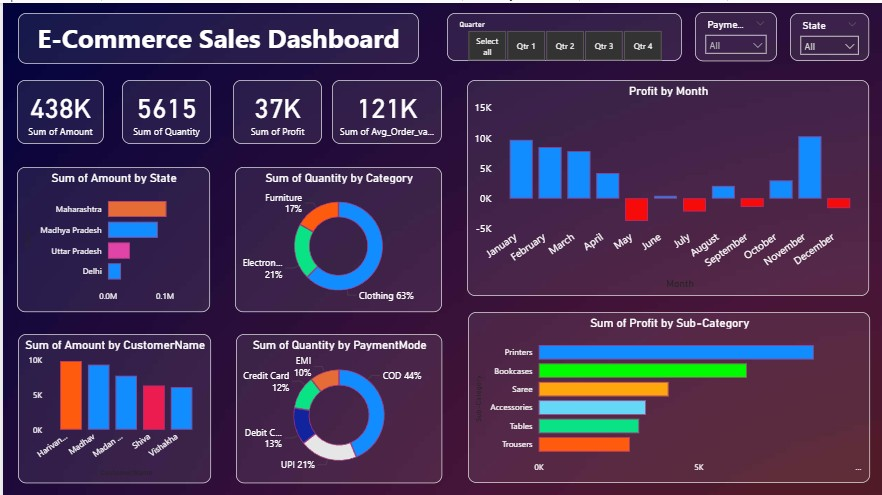

The dashboard page shown, as its layout file describes it:
{"tool":"powerbi","page":{"name":"Page 1","canvas":[1280,720],"ordinal":0},"visuals":[{"type":"textbox","box":[21.6,14.4,577.4,73.4],"z":0},{"type":"columnChart","title":"Profit by Month","fields":{"Y":["Details.Profit"],"Category":["Orders.Order Date.Variation.Date Hierarchy.Month"]},"box":[668.2,110.9,578.9,311],"z":1000},{"type":"barChart","fields":{"Category":["Details.Sub-Category"],"Y":["Details.Profit"]},"box":[669.6,445,578.9,246.2],"z":2000},{"type":"donutChart","fields":{"Category":["Details.Category"],"Y":["Details.Quantity"]},"box":[334.1,236.2,298.1,208.8],"z":3000},{"type":"donutChart","fields":{"Y":["Details.Quantity"],"Category":["Details.PaymentMode"]},"box":[335.5,476.6,296.6,214.6],"z":4000},{"type":"card","fields":{"Values":["Details.Amount"]},"box":[20.2,110.9,125.3,92.2],"z":5000},{"type":"card","fields":{"Values":["Details.Quantity"]},"box":[171.4,110.9,128.2,92.2],"z":6000},{"type":"card","fields":{"Values":["Details.Profit"]},"box":[331.2,110.9,128.2,92.2],"z":7000},{"type":"card","fields":{"Values":["Details.Avg_Order_value"]},"box":[473.8,110.9,158.4,92.2],"z":8000},{"type":"barChart","fields":{"Category":["Orders.State"],"Y":["Details.Amount"]},"box":[20.2,236.2,277.9,208.8],"z":9000},{"type":"columnChart","fields":{"Y":["Details.Amount"],"Category":["Orders.CustomerName"]},"box":[21.6,476.6,277.9,214.6],"z":10000},{"type":"slicer","fields":{"Values":["Orders.State"]},"box":[1133.3,14.4,113.8,69.1],"z":11000},{"type":"slicer","fields":{"Values":["Details.PaymentMode"]},"box":[996.5,13,118.1,70.6],"z":12000},{"type":"slicer","fields":{"Values":["Orders.Order Date.Variation.Date Hierarchy.Quarter"]},"box":[639.4,14.4,338.4,69.1],"z":13000}]}

Visuals, with their boxes in screenshot pixels (x1, y1, x2, y2), scaled from the page's 1280x720 canvas onto the 882x495 screenshot:
textbox: [15, 10, 413, 60]
"Profit by Month" columnChart: [460, 76, 859, 290]
barChart - Details.Sub-Category x Details.Profit: [461, 306, 860, 475]
donutChart - Details.Category x Details.Quantity: [230, 162, 436, 306]
donutChart - Details.Quantity x Details.PaymentMode: [231, 328, 436, 475]
card - Details.Amount: [14, 76, 100, 140]
card - Details.Quantity: [118, 76, 206, 140]
card - Details.Profit: [228, 76, 317, 140]
card - Details.Avg_Order_value: [326, 76, 436, 140]
barChart - Orders.State x Details.Amount: [14, 162, 205, 306]
columnChart - Details.Amount x Orders.CustomerName: [15, 328, 206, 475]
slicer - Orders.State: [781, 10, 859, 57]
slicer - Details.PaymentMode: [687, 9, 768, 57]
slicer - Orders.Order Date.Variation.Date Hierarchy.Quarter: [441, 10, 674, 57]
